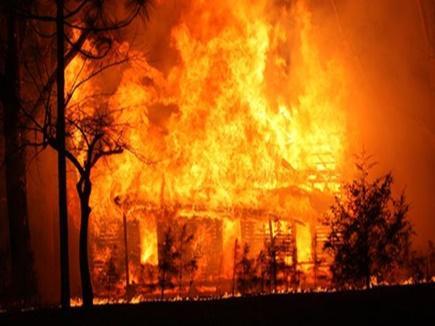fire: (60, 0, 359, 288)
